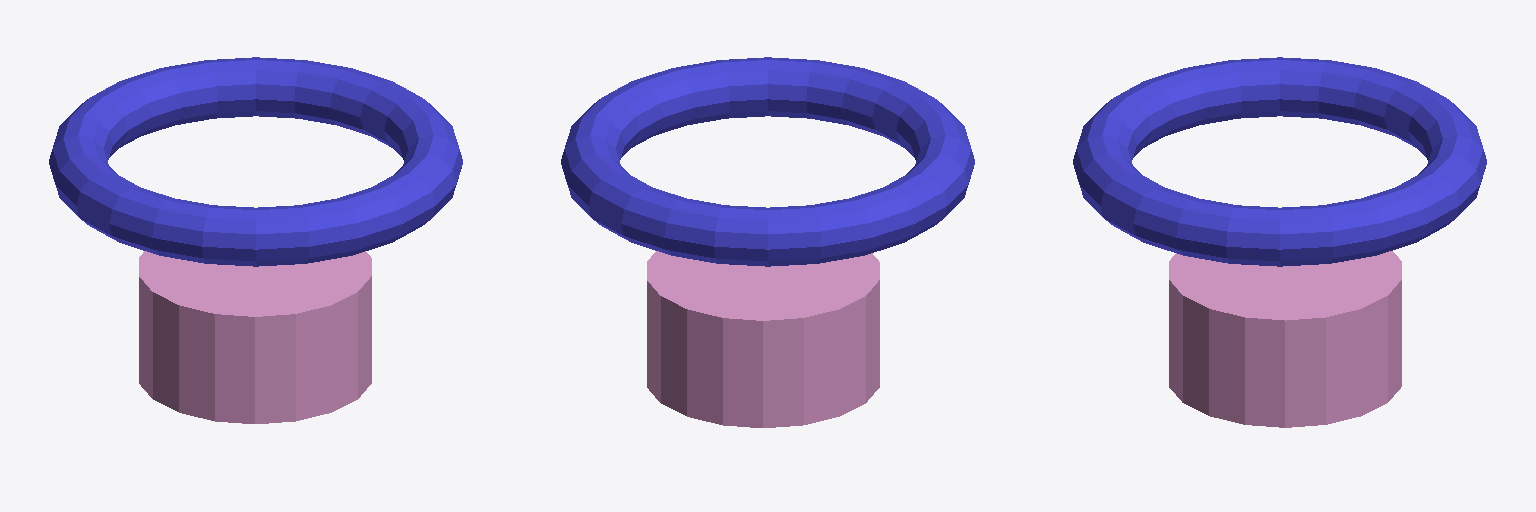
Rendered from player.obj.
The picture shows the model from 3 angles: view 1: azimuth 30°, elevation 25°; view 2: azimuth 150°, elevation 25°; view 3: azimuth 270°, elevation 25°; orthographic projection.
Parts seen in each view (by area): view 1: Torus001, Cylinder001; view 2: Torus001, Cylinder001; view 3: Torus001, Cylinder001.
Boxes of the visible parts, x1=… form: Torus001: x1=49, y1=57, x2=462, y2=266; Cylinder001: x1=139, y1=251, x2=371, y2=423; Torus001: x1=561, y1=57, x2=974, y2=266; Cylinder001: x1=647, y1=251, x2=879, y2=427; Torus001: x1=1073, y1=57, x2=1486, y2=266; Cylinder001: x1=1169, y1=251, x2=1401, y2=427.
Bounding box in the file's own units: 3.5 × 2.25 × 3.5.